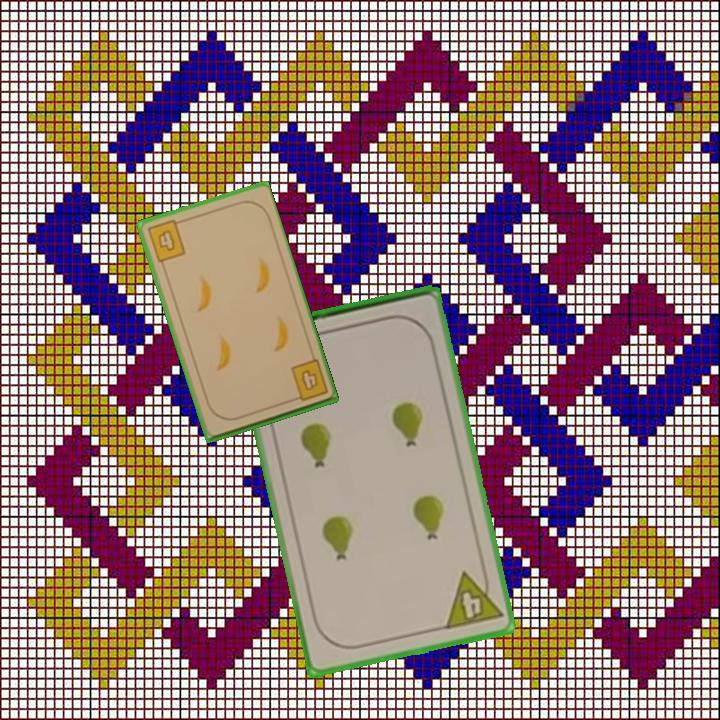4b: (143, 216, 188, 265), (287, 356, 331, 404)
4p: (441, 564, 506, 633)
